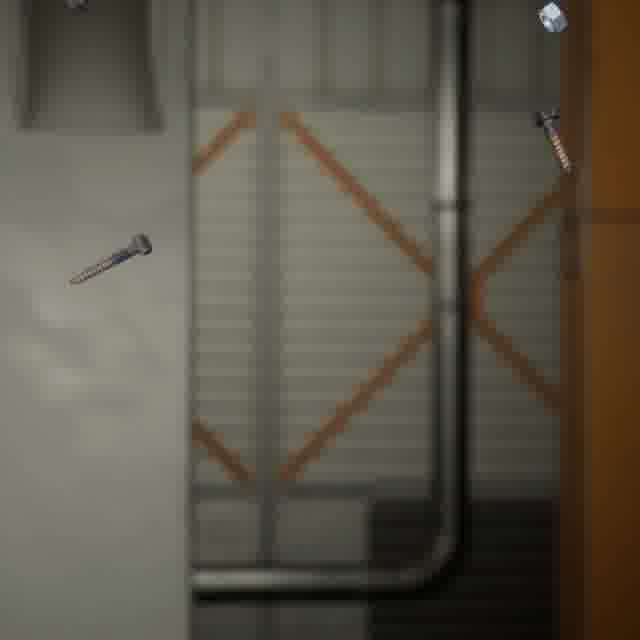bolt: (63, 229, 156, 290), (528, 103, 577, 177)
nut: (533, 0, 571, 39)
